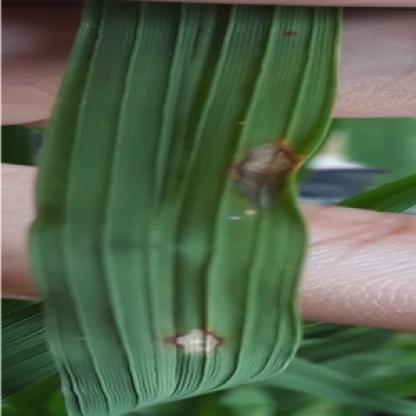Rice blast: (234, 132, 302, 211), (169, 312, 237, 376)
